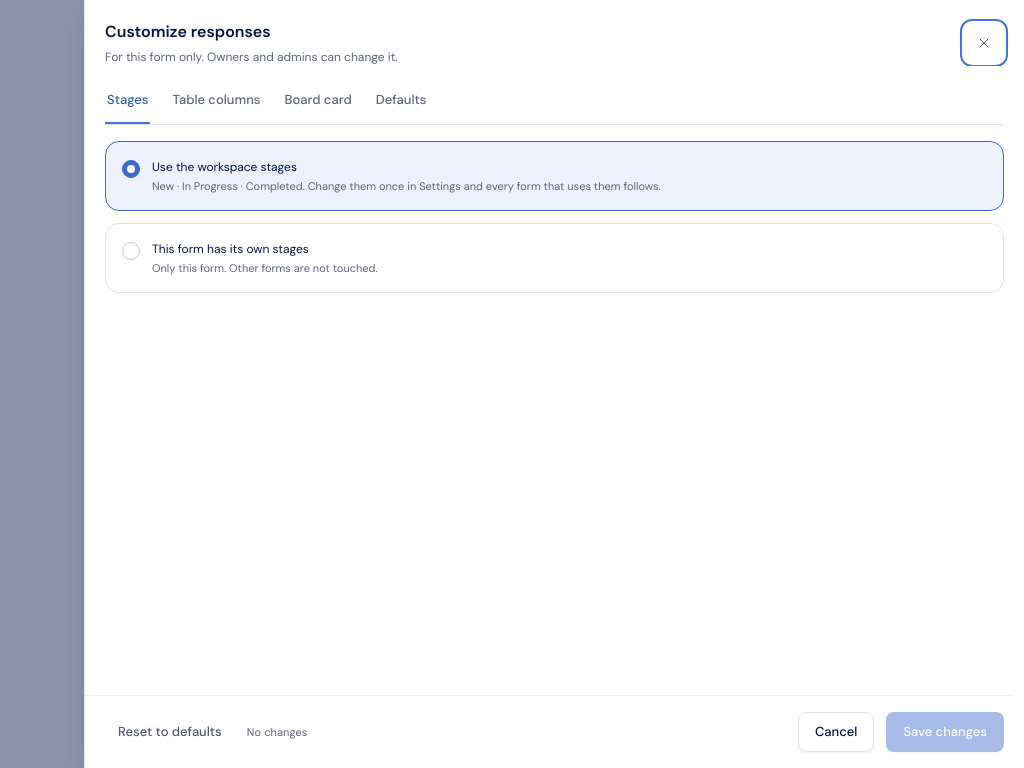
Test: ResponsesCustomizeDrawer › Reset to defaults puts the panel back to today's setup
Step 1. Click the tab "Defaults" → point(401, 101), box [374,78,428,124]
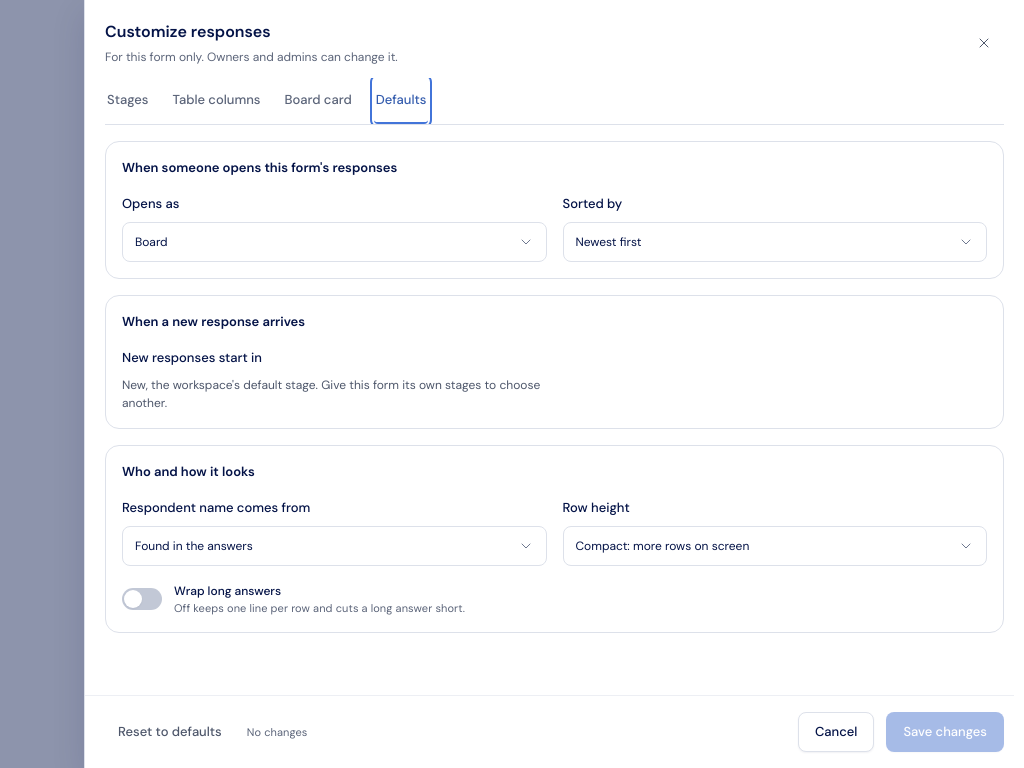
Expected: the dropdown labelled "Opens as" shows "Board", [122,222,546,262]
Step 2. Click the button "Reset to defaults" → point(170, 732), box [105,716,235,748]
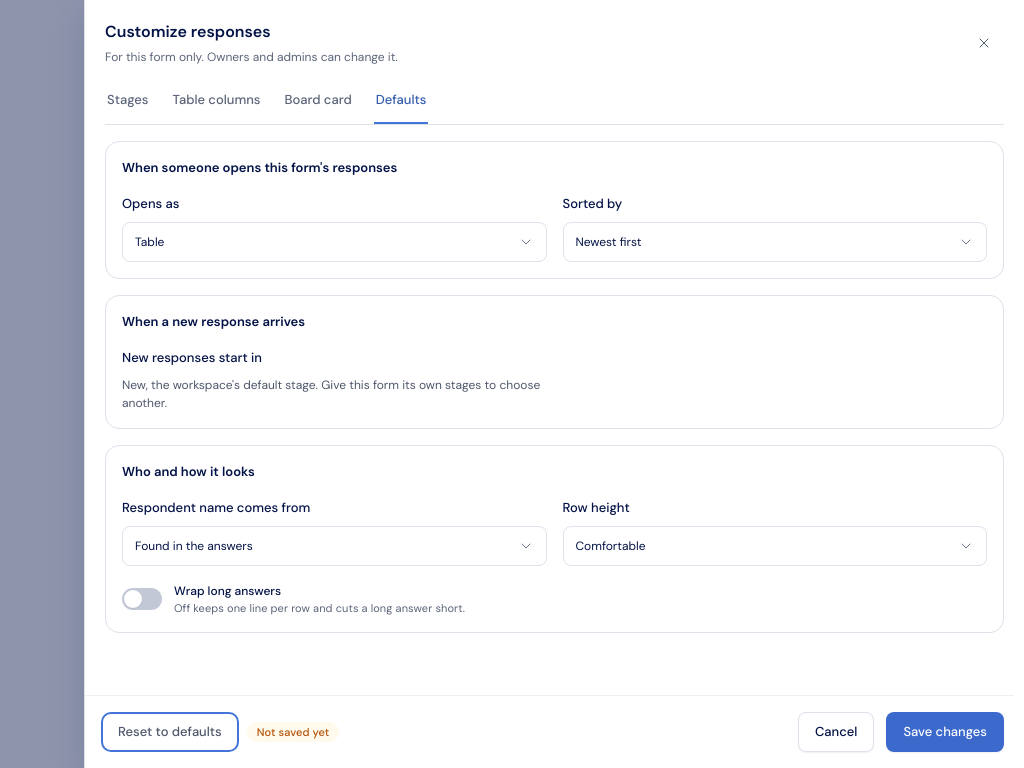
Expected: the dropdown labelled "Opens as" shows "Table", [122,222,546,262]
Expected: the dropdown labelled "Row height" shows "Comfortable", [562,526,987,566]
Expected: the message reads "Not saved yet", [257,725,330,739]
